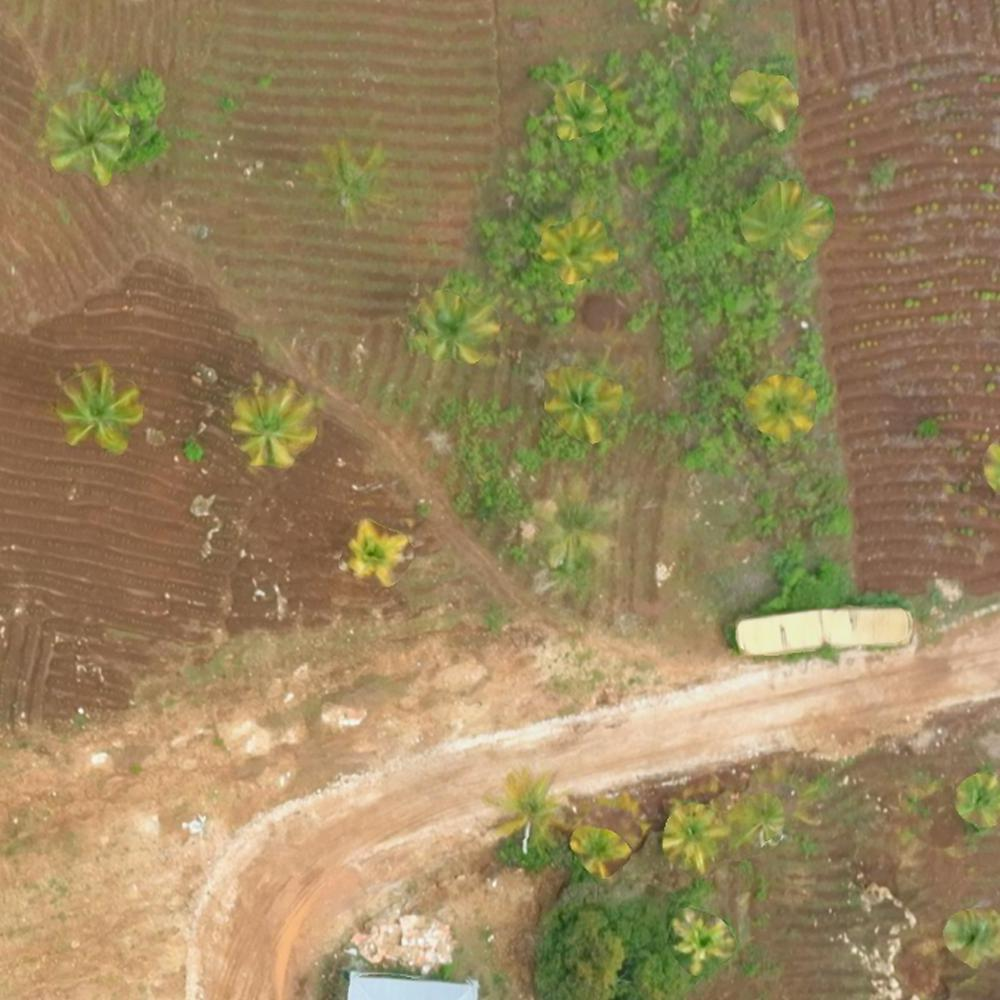Palm: (229, 384, 314, 467), (56, 366, 138, 448), (743, 182, 829, 260), (414, 283, 498, 360), (42, 100, 125, 177), (544, 367, 621, 444), (746, 371, 819, 443), (538, 214, 614, 282), (491, 773, 562, 843), (669, 907, 735, 974), (661, 804, 725, 868), (346, 524, 408, 585), (565, 824, 629, 879), (548, 77, 610, 133)
